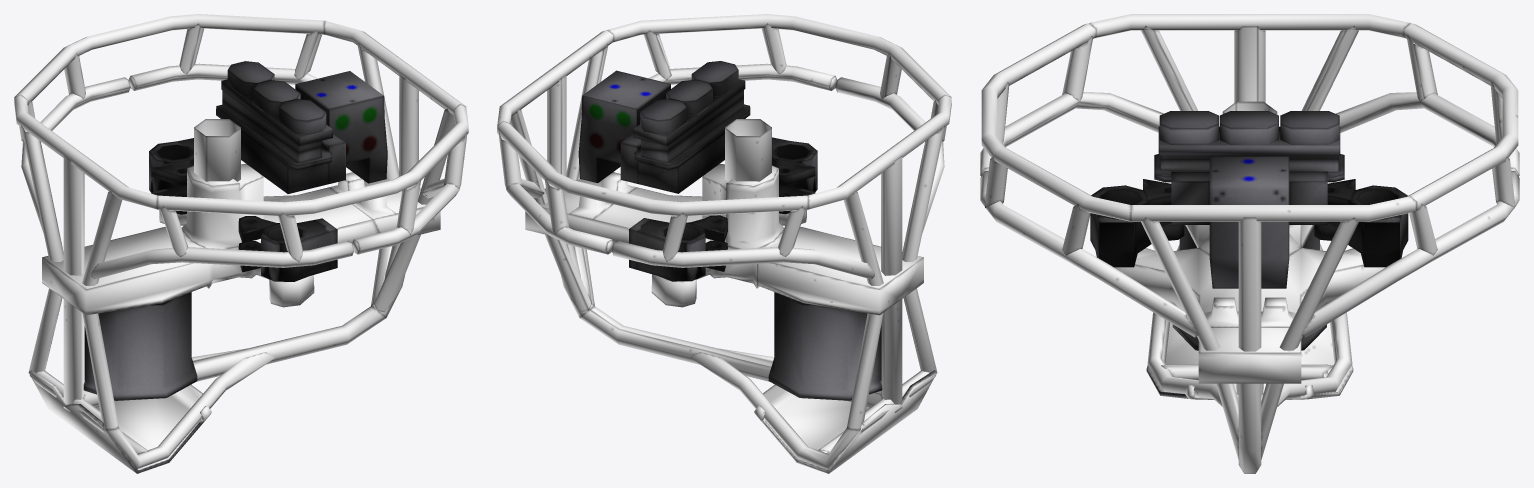
Rendered from pelvis.obj.
The picture shows the model from 3 angles, left to right: view 1: azimuth 30°, elevation 25°; view 2: azimuth 150°, elevation 25°; view 3: azimuth 270°, elevation 25°; orthographic projection. The views are drawn at different scales.
Visible parts, largest first — view 1: <dummy_root>; view 2: <dummy_root>; view 3: <dummy_root>.
Part boxes in pixels (<box>): <dummy_root>: <box>14,14,468,473</box>; <dummy_root>: <box>497,14,951,473</box>; <dummy_root>: <box>980,14,1519,473</box>.
Size of the model in its own units: 0.3298 by 0.2739 by 0.3728.
1 material, 1 textured.
